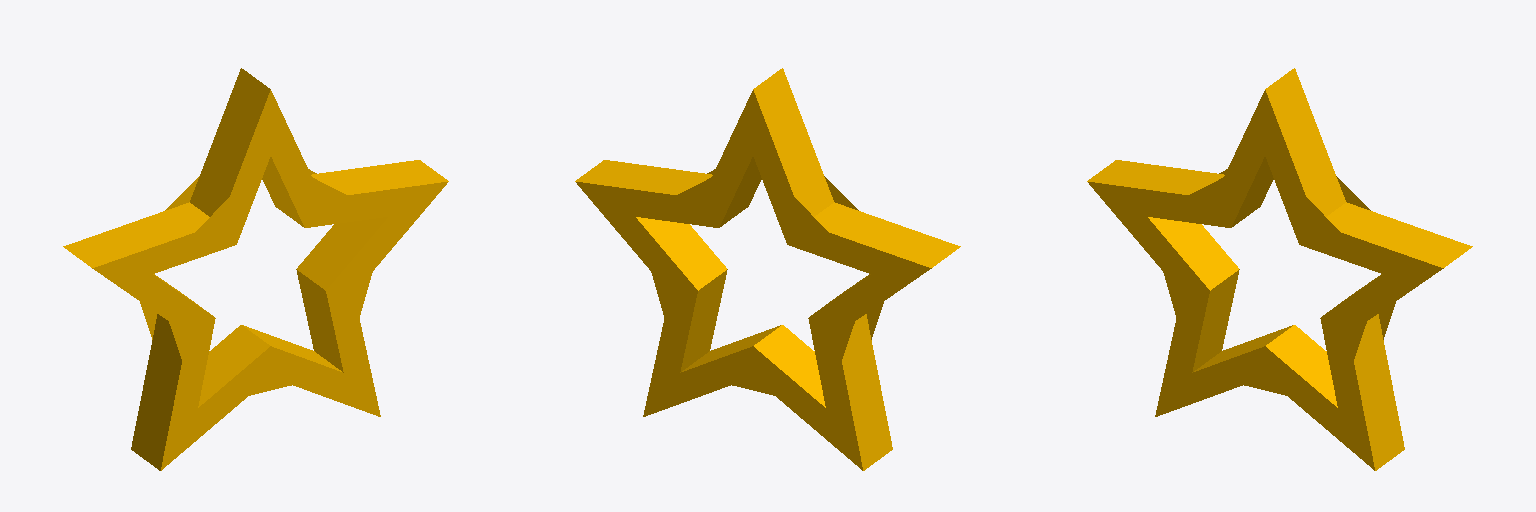
3 views of the same model, side by side, from view 1: azimuth 30°, elevation 25°; view 2: azimuth 150°, elevation 25°; view 3: azimuth 330°, elevation 25° (orthographic).
Parts seen in each view (by area): view 1: Layer_star; view 2: Layer_star; view 3: Layer_star.
Part boxes in pixels (left/top/right/bottom): Layer_star: left=63, top=68, right=448, bottom=470; Layer_star: left=575, top=68, right=960, bottom=470; Layer_star: left=1087, top=68, right=1472, bottom=470.
Size of the model in its own units: 2.78 by 2.64 by 0.4.